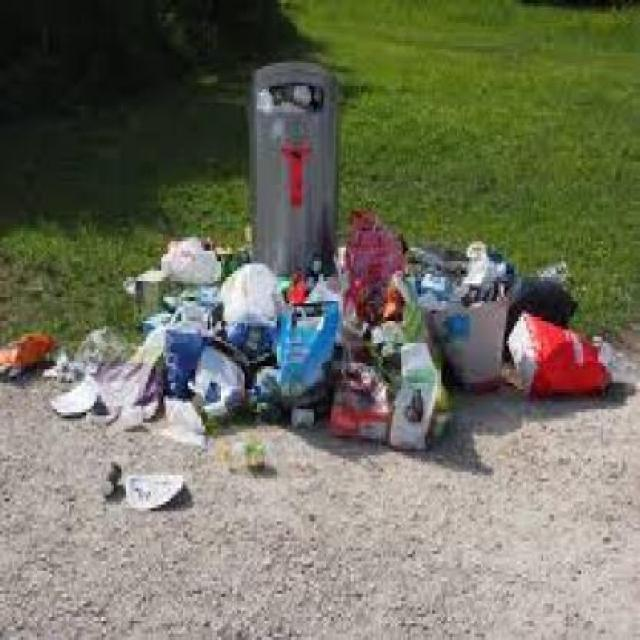garbage: (156, 245, 606, 440), (0, 329, 178, 498)
